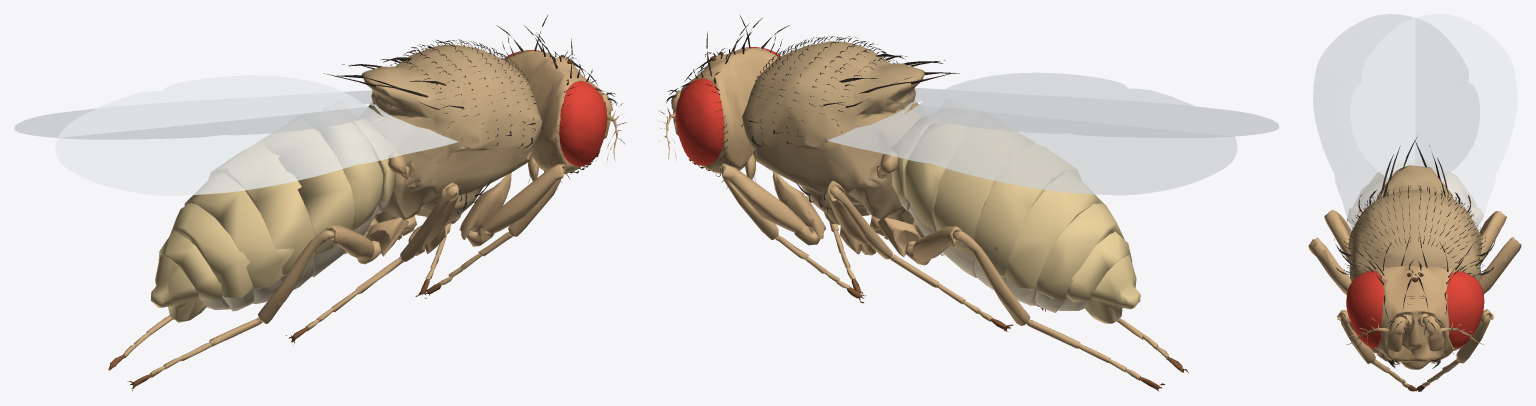
File: fly-lo.glb
3 renders of one model, left to right at view 1: azimuth 30°, elevation 25°; view 2: azimuth 150°, elevation 25°; view 3: azimuth 270°, elevation 25°, orthographic. The views are drawn at different scales.
Parts seen in each view (by area): view 1: wing_right_geom, thorax_geom, wing_left_geom, head_geom, abdomen_3_geom, abdomen_4_geom, abdomen_5_geom, abdomen_7_geom, abdomen_6_geom, abdomen_2_geom, femur_T1_right_geom, tibia_T3_right_geom (+7 smaller); view 2: wing_left_geom, thorax_geom, wing_right_geom, head_geom, abdomen_3_geom, abdomen_4_geom, abdomen_5_geom, abdomen_7_geom, abdomen_6_geom, abdomen_2_geom, femur_T1_left_geom, tibia_T3_left_geom (+7 smaller); view 3: wing_left_geom, wing_right_geom, thorax_geom, head_geom, femur_T2_left_geom, femur_T2_right_geom, antenna_right_geom, abdomen_2_geom, antenna_left_geom, femur_T3_right_geom, femur_T3_left_geom, tibia_T1_right_geom (+2 smaller).
Boxes of the visible parts, x1,y1,x2,y2 form: wing_right_geom: (55,75,457,195); thorax_geom: (323,39,543,225); wing_left_geom: (14,90,377,139); head_geom: (496,15,614,189); abdomen_3_geom: (258,129,355,277); abdomen_4_geom: (208,142,315,289); abdomen_5_geom: (184,173,294,303); abdomen_7_geom: (150,231,238,322); abdomen_6_geom: (169,203,263,311); abdomen_2_geom: (315,122,382,254); femur_T1_right_geom: (466,163,565,246); tibia_T3_right_geom: (258,230,334,323); wing_left_geom: (827,72,1237,195); thorax_geom: (741,36,959,225); wing_right_geom: (908,87,1279,137); head_geom: (669,15,789,188); abdomen_3_geom: (934,127,1035,277); abdomen_4_geom: (963,141,1081,289); abdomen_5_geom: (994,171,1103,305); abdomen_7_geom: (1048,231,1140,323); abdomen_6_geom: (1026,203,1124,312); abdomen_2_geom: (905,121,972,255); femur_T1_left_geom: (719,163,819,245); tibia_T3_left_geom: (953,230,1030,325); wing_left_geom: (1350,14,1517,230); wing_right_geom: (1313,14,1479,230); thorax_geom: (1334,136,1495,282); head_geom: (1346,236,1484,368); femur_T2_left_geom: (1479,237,1521,293); femur_T2_right_geom: (1308,237,1351,295); antenna_right_geom: (1346,316,1407,351); abdomen_2_geom: (1353,176,1472,227); antenna_left_geom: (1422,315,1483,351); femur_T3_right_geom: (1324,209,1350,263); femur_T3_left_geom: (1479,211,1506,265); tibia_T1_right_geom: (1340,314,1375,363).
Size of the model in its own units: 1 by 0.4376 by 0.3717.
